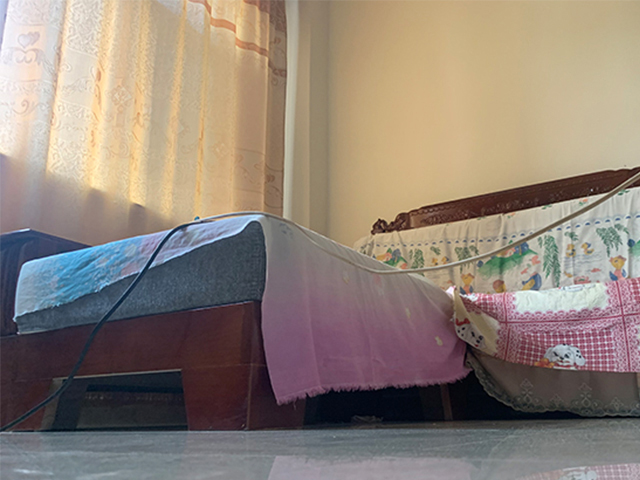curtain: (2, 2, 287, 217)
sofa: (1, 167, 640, 432)
wire: (1, 224, 176, 422), (295, 216, 575, 275)
